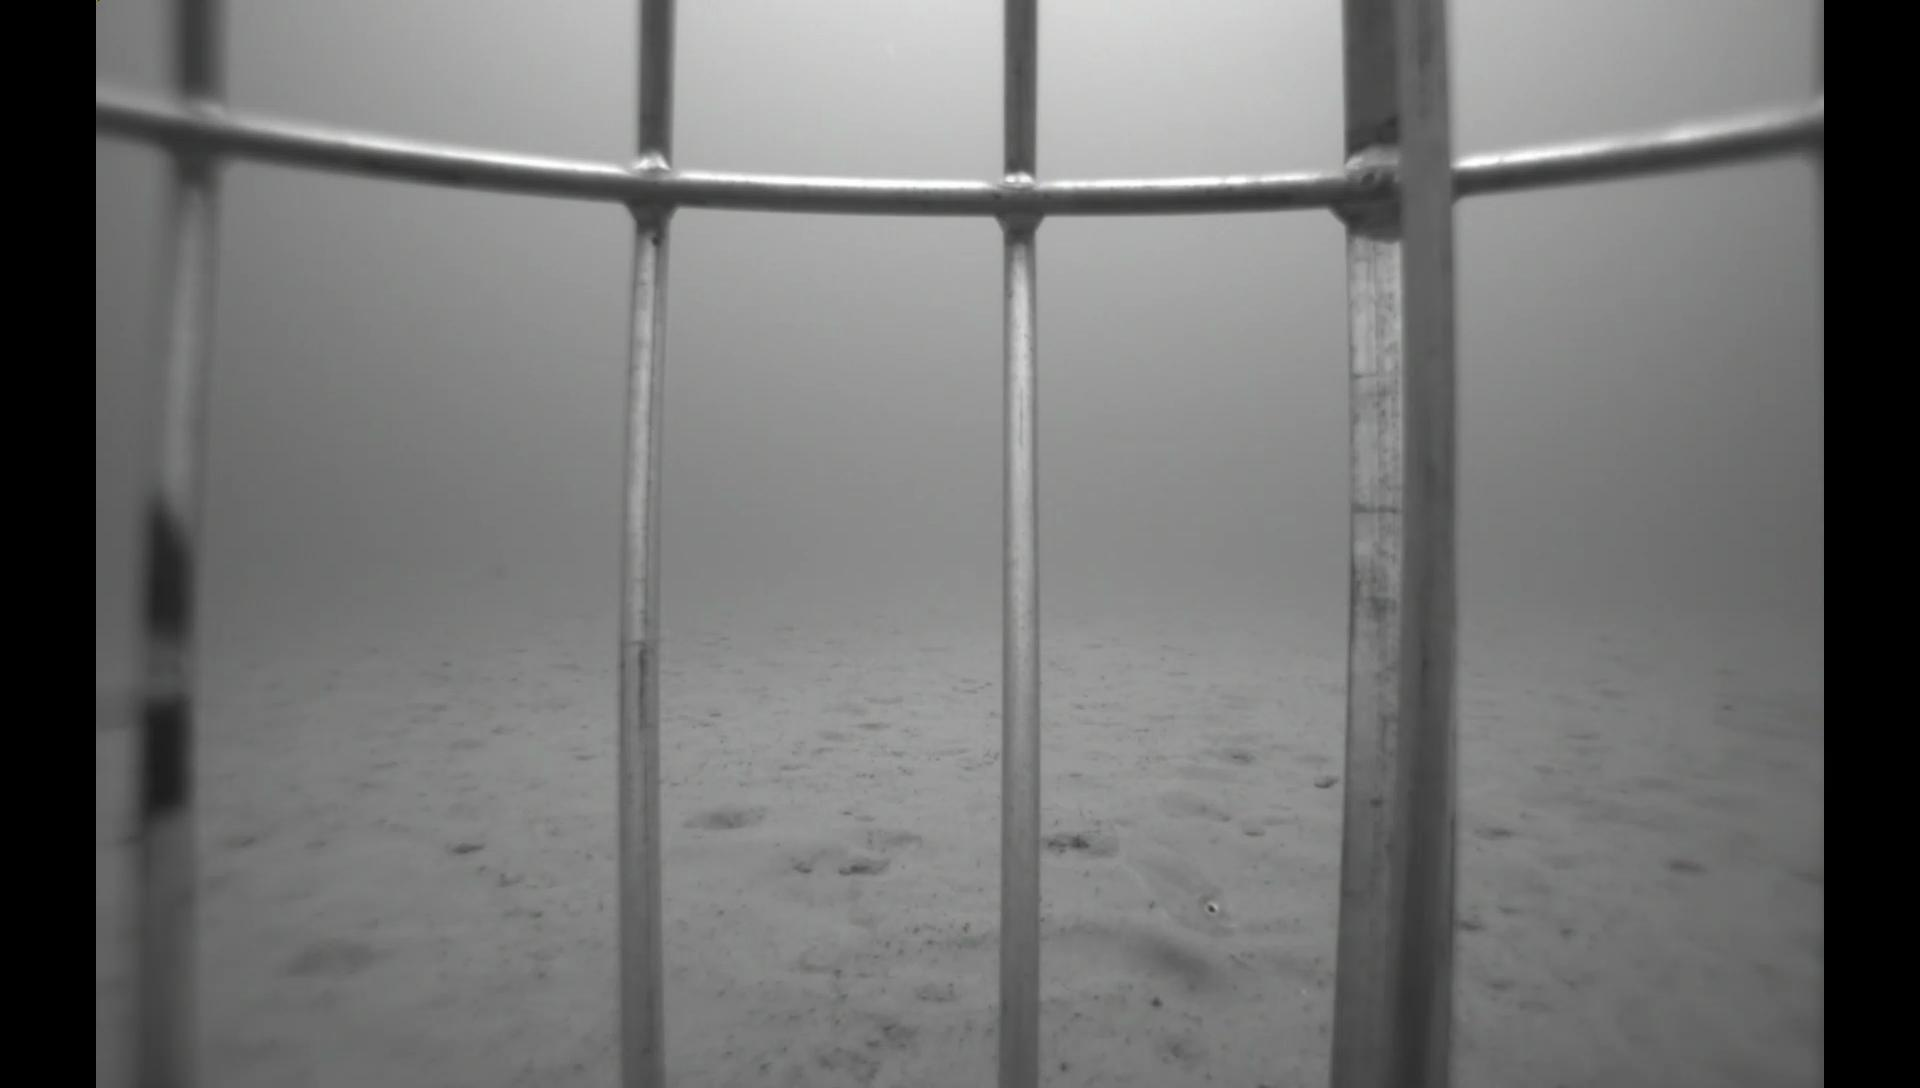CAULOLATILUSCYANOPS-170070101: (1704, 682, 1822, 750)
PRISTIPOMOIDES-170151800: (1089, 810, 1249, 951)
